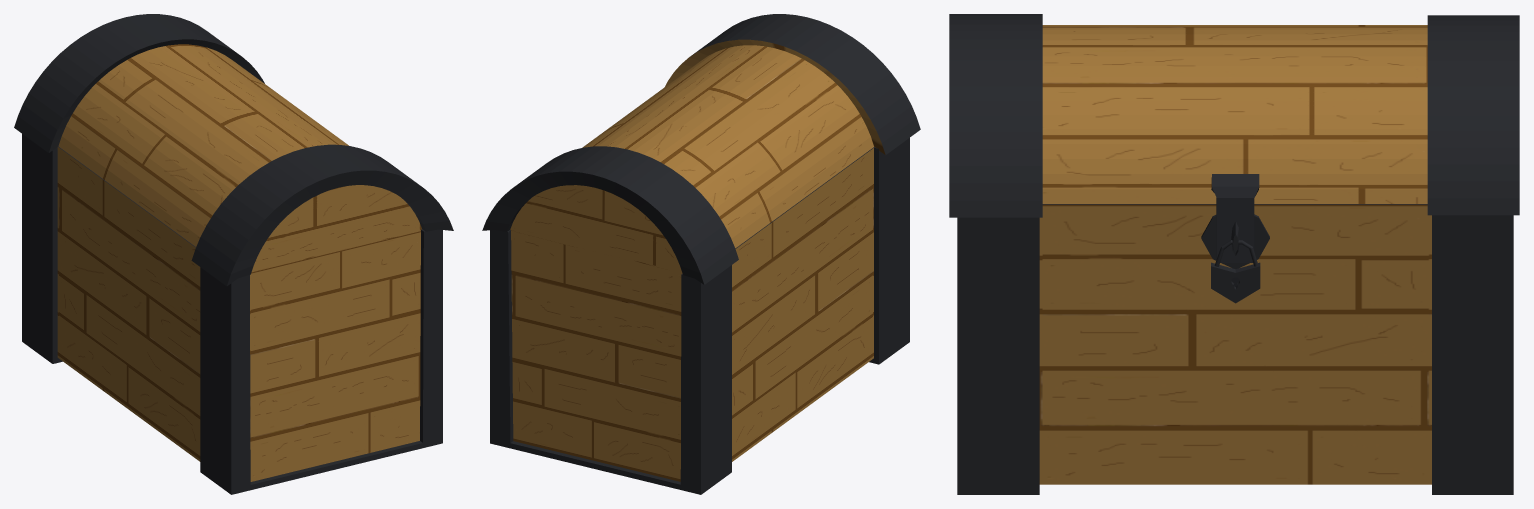
Rendered from chest.fbx.
3 renders of one model, left to right at view 1: azimuth 30°, elevation 25°; view 2: azimuth 150°, elevation 25°; view 3: azimuth 270°, elevation 25°, orthographic. The views are drawn at different scales.
Visible parts, largest first — view 1: Cube, Cylinder; view 2: Cube, Cylinder; view 3: Cube, Cylinder, Cube.001, Cube.002.
Part boxes in pixels (bbox=[...]): Cube: bbox=[22, 134, 442, 494]; Cylinder: bbox=[14, 14, 453, 286]; Cube: bbox=[490, 138, 909, 494]; Cylinder: bbox=[482, 14, 920, 284]; Cube: bbox=[957, 204, 1513, 494]; Cylinder: bbox=[949, 14, 1519, 262]; Cube.001: bbox=[1211, 240, 1260, 303]; Cube.002: bbox=[1201, 214, 1269, 269].
Bounding box in the file's own units: 225 × 282 × 369.
